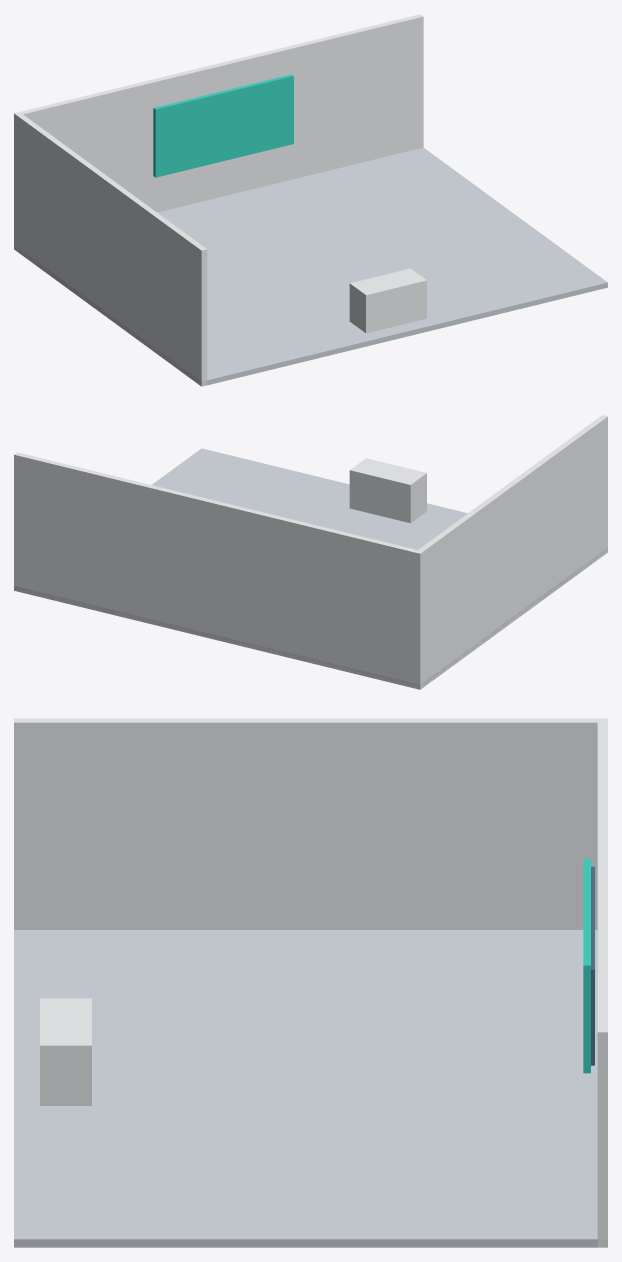
3 views of the same model, one above another, from view 1: azimuth 30°, elevation 25°; view 2: azimuth 150°, elevation 25°; view 3: azimuth 270°, elevation 25° (orthographic). The views are drawn at different scales.
Parts seen in each view (by area): view 1: Exhibition Booth Concept; view 2: Exhibition Booth Concept; view 3: Exhibition Booth Concept.
Boxes of the visible parts, bbox=[...] form: Exhibition Booth Concept: bbox=[14, 14, 607, 386]; Exhibition Booth Concept: bbox=[14, 415, 607, 689]; Exhibition Booth Concept: bbox=[14, 718, 607, 1247].
Bounding box in the file's own units: 10 × 3.2 × 8.
